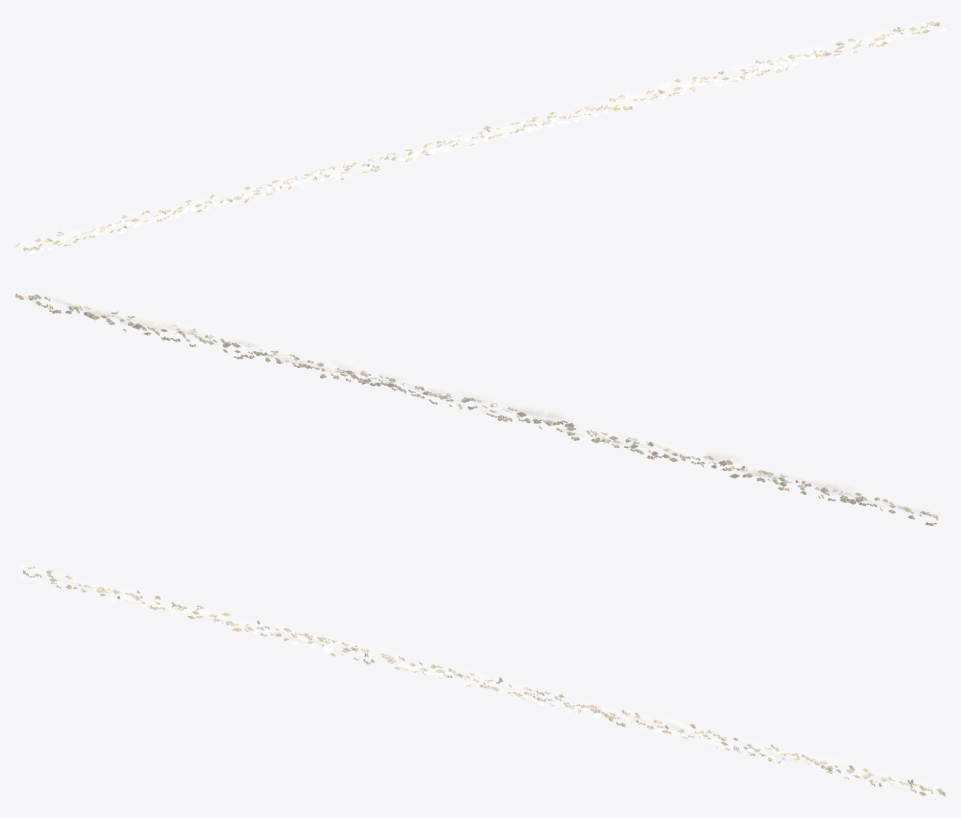
The model's file is surge_front.glb.
The picture shows the model from 3 angles, top to bottom: view 1: azimuth 30°, elevation 25°; view 2: azimuth 150°, elevation 25°; view 3: azimuth 330°, elevation 25°; orthographic projection.
Size of the model in its own units: 610 by 14.05 by 19.91.
Materials: 3 (3 with a texture image).
